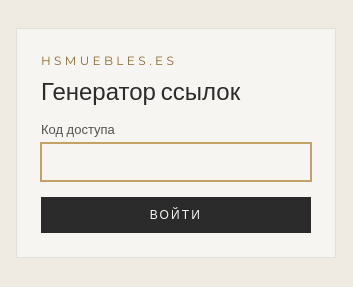
Test: UtmBuilder — код доступа › на неверный код ругается и не пускает
In the password field labelled "Код доступа": point(176, 162) [41,143,311,181], type "123456"
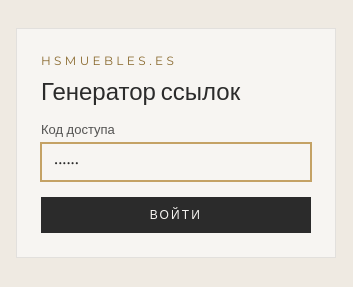
Click the button "Войти": point(176, 215) [41,197,311,233]
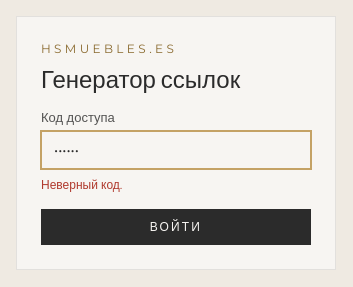
Check: the text "Неверный код." is shown, box [41,177,122,192]
